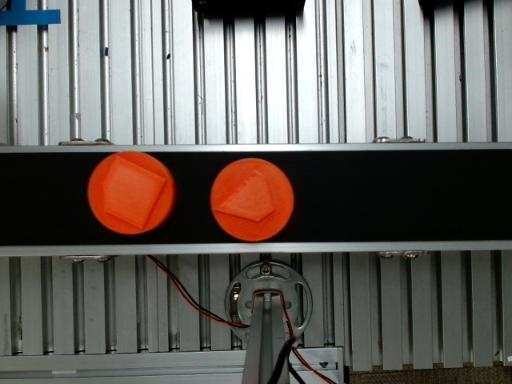Not_Square: (101, 157, 168, 230), (216, 168, 274, 224)
Orange_Waper: (88, 152, 175, 234), (211, 158, 294, 241)
